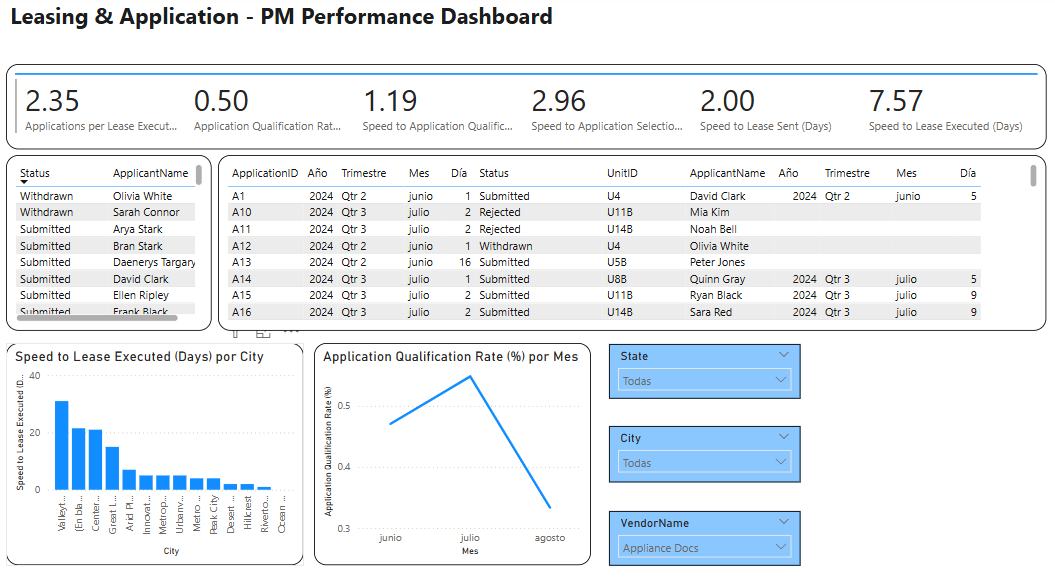

What the dashboard file says about the page in this screenshot:
{"tool":"powerbi","page":{"name":"Leasing & Applications Performance","canvas":[1280,720],"ordinal":1},"visuals":[{"type":"textbox","box":[10.6,0,693.1,82.3],"z":0},{"type":"multiRowCard","fields":{"Values":["Applications.Applications per Lease Executed","Applications.Application Qualification Rate (%)","Applications.Speed to Application Qualification (Days)","Applications.Speed to Application Selection (Days)","Applications.Speed to Lease Sent (Days)","Applications.Speed to Lease Executed (Days)"]},"box":[11,82,1255,103],"z":1000},{"type":"tableEx","fields":{"Values":["Applications.Status","Applications.ApplicantName"]},"box":[11,192,248,212],"z":2000},{"type":"columnChart","fields":{"Category":["Properties.City"],"Y":["Applications.Speed to Lease Executed (Days)"]},"box":[11,419,359,268],"z":3000},{"type":"slicer","fields":{"Values":["Properties.City"]},"box":[738,519,231,68],"z":4000},{"type":"slicer","fields":{"Values":["Vendors.VendorName"]},"box":[738,621,231,66],"z":5000},{"type":"slicer","fields":{"Values":["Properties.State"]},"box":[738.5,419.5,231,66.4],"z":6000},{"type":"lineChart","fields":{"Y":["Applications.Application Qualification Rate (%)"],"Category":["Applications.SubmissionDate.Variación.Jerarquía de fechas.Mes"]},"box":[382,419,334,268],"z":7000},{"type":"tableEx","fields":{"Values":["Applications.ApplicationID","Applications.SubmissionDate.Variación.Jerarquía de fechas.Año","Applications.SubmissionDate.Variación.Jerarquía de fechas.Trimestre","Applications.SubmissionDate.Variación.Jerarquía de fechas.Mes","Applications.SubmissionDate.Variación.Jerarquía de fechas.Día","Applications.Status","Applications.UnitID","Applications.ApplicantName","Applications.LeaseExecutedDate.Variación.Jerarquía de fechas.Año","Applications.LeaseExecutedDate.Variación.Jerarquía de fechas.Trimestre","Applications.LeaseExecutedDate.Variación.Jerarquía de fechas.Mes","Applications.LeaseExecutedDate.Variación.Jerarquía de fechas.Día"]},"box":[267,192,999,212],"z":8000}]}

Visuals, with their boxes in screenshot pixels (x1, y1, x2, y2), scaled from the page's 1280x720 canvas onto the 1055x586 screenshot:
textbox: {"left": 9, "top": 0, "right": 580, "bottom": 67}
multiRowCard - Applications.Applications per Lease Executed x Applications.Application Qualification Rate (%): {"left": 9, "top": 67, "right": 1043, "bottom": 151}
tableEx - Applications.Status x Applications.ApplicantName: {"left": 9, "top": 156, "right": 213, "bottom": 329}
columnChart - Properties.City x Applications.Speed to Lease Executed (Days): {"left": 9, "top": 341, "right": 305, "bottom": 559}
slicer - Properties.City: {"left": 608, "top": 422, "right": 799, "bottom": 478}
slicer - Vendors.VendorName: {"left": 608, "top": 505, "right": 799, "bottom": 559}
slicer - Properties.State: {"left": 609, "top": 341, "right": 799, "bottom": 395}
lineChart - Applications.Application Qualification Rate (%) x Applications.SubmissionDate.Variación.Jerarquía de fechas.Mes: {"left": 315, "top": 341, "right": 590, "bottom": 559}
tableEx - Applications.ApplicationID x Applications.SubmissionDate.Variación.Jerarquía de fechas.Año: {"left": 220, "top": 156, "right": 1043, "bottom": 329}
